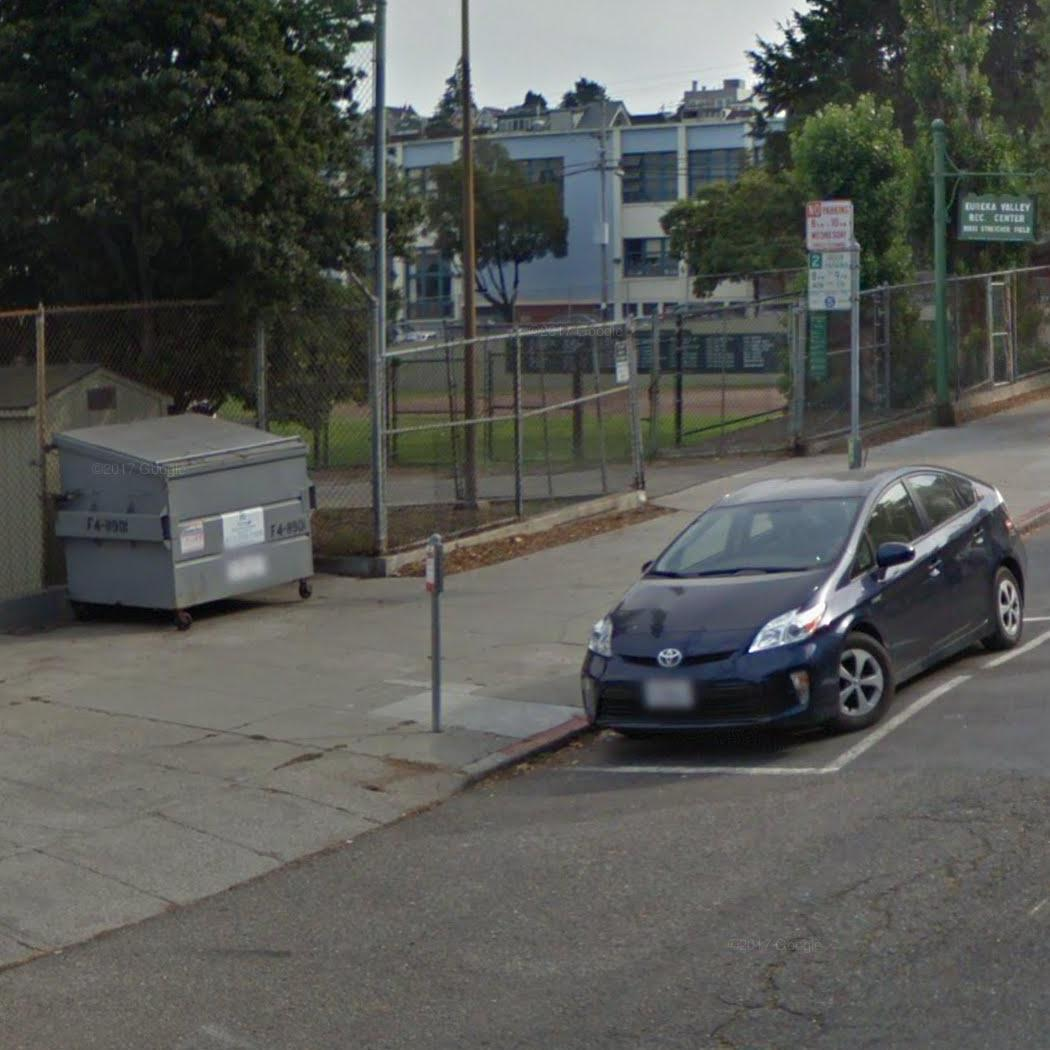2 Hour Parking: (804, 251, 852, 313)
No Parking: (803, 196, 857, 252)
